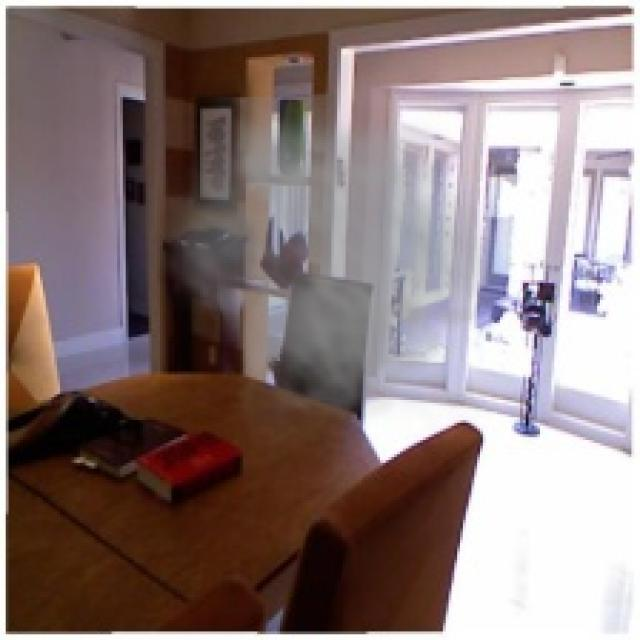smoke: (146, 97, 514, 457)
